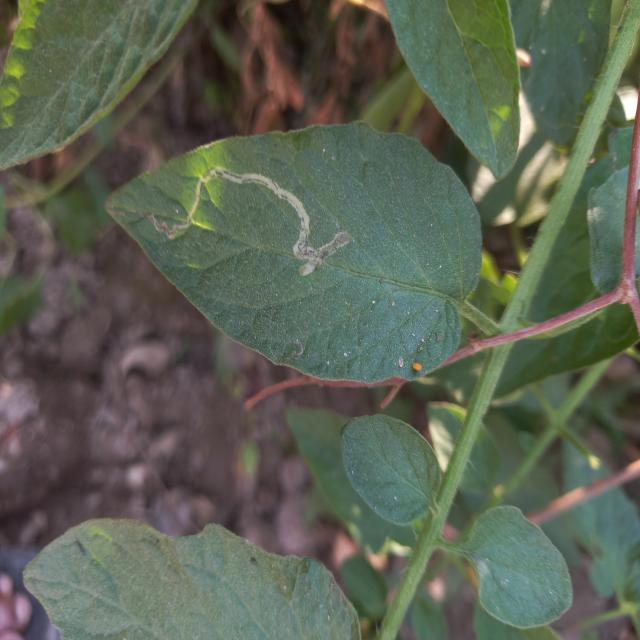Tuta absoluta: (183, 150, 357, 287)
